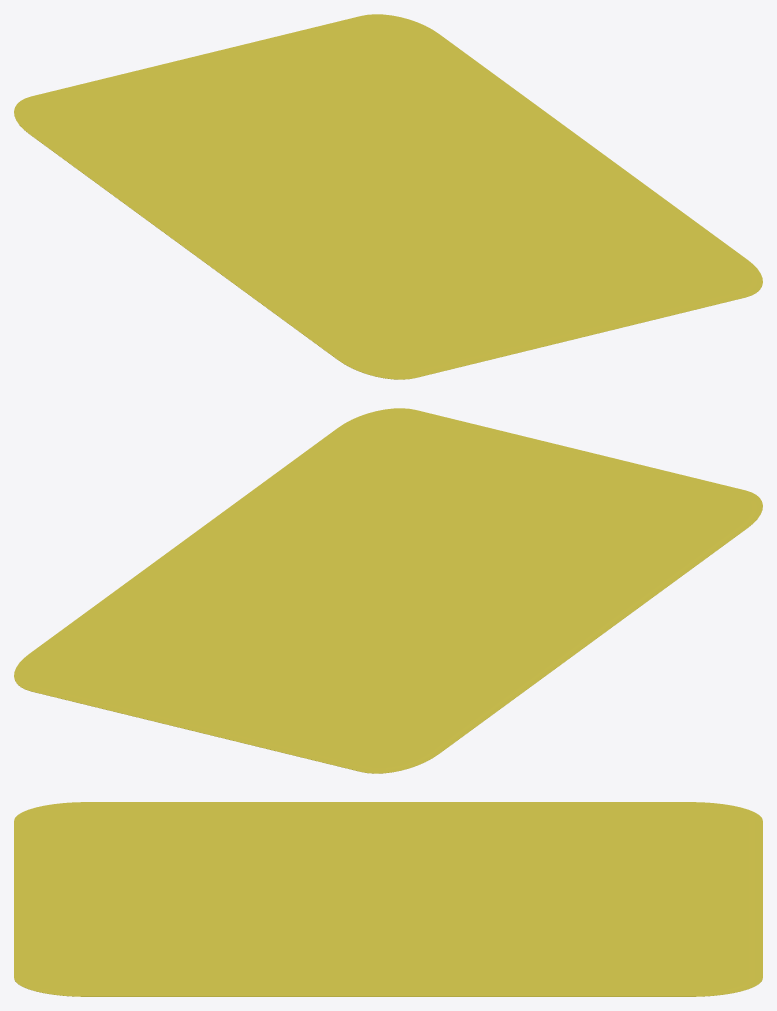
Rendered from card_back.glb.
The picture shows the model from 3 angles, top to bottom: view 1: azimuth 30°, elevation 25°; view 2: azimuth 150°, elevation 25°; view 3: azimuth 270°, elevation 25°; orthographic projection. The views are drawn at different scales.
Parts seen in each view (by area): view 1: Mesh_Mesh_head_geo.001_lambert2SG.001; view 2: Mesh_Mesh_head_geo.001_lambert2SG.001; view 3: Mesh_Mesh_head_geo.001_lambert2SG.001.
Part boxes in pixels (box(x1,y1,x2,y2)): Mesh_Mesh_head_geo.001_lambert2SG.001: box(14, 14, 762, 379); Mesh_Mesh_head_geo.001_lambert2SG.001: box(14, 408, 762, 773); Mesh_Mesh_head_geo.001_lambert2SG.001: box(14, 802, 762, 996).
Bounding box in the file's own units: 24 × 0.01 × 39.
